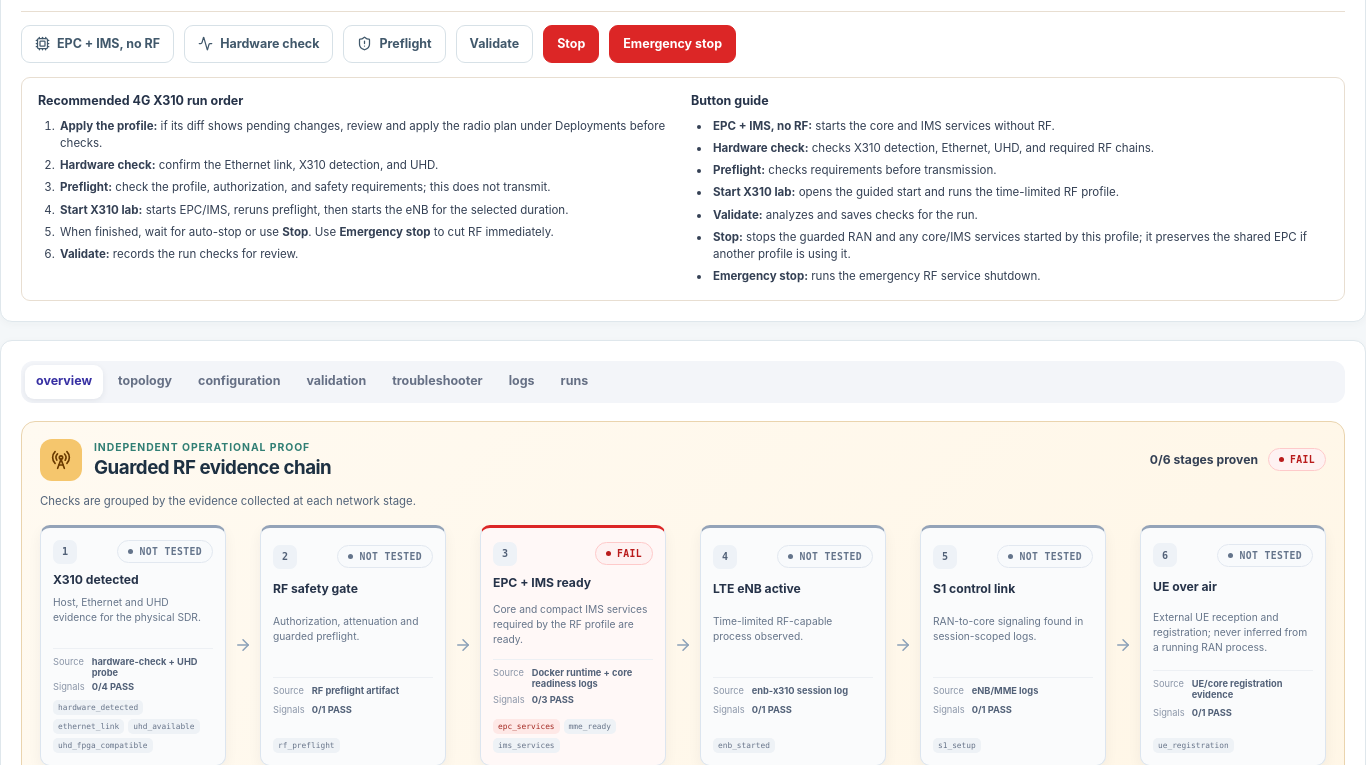
Test: profile troubleshooter › detects and safely resolves a synthetic core failure in 4G - Guarded LTE RF
(page scrolled)
What coordinates should you click on to do the following:
click the tab "troubleshooter"
I would click on:
 (438, 382)
Its box is [381,365,494,399].
(page scrolled)
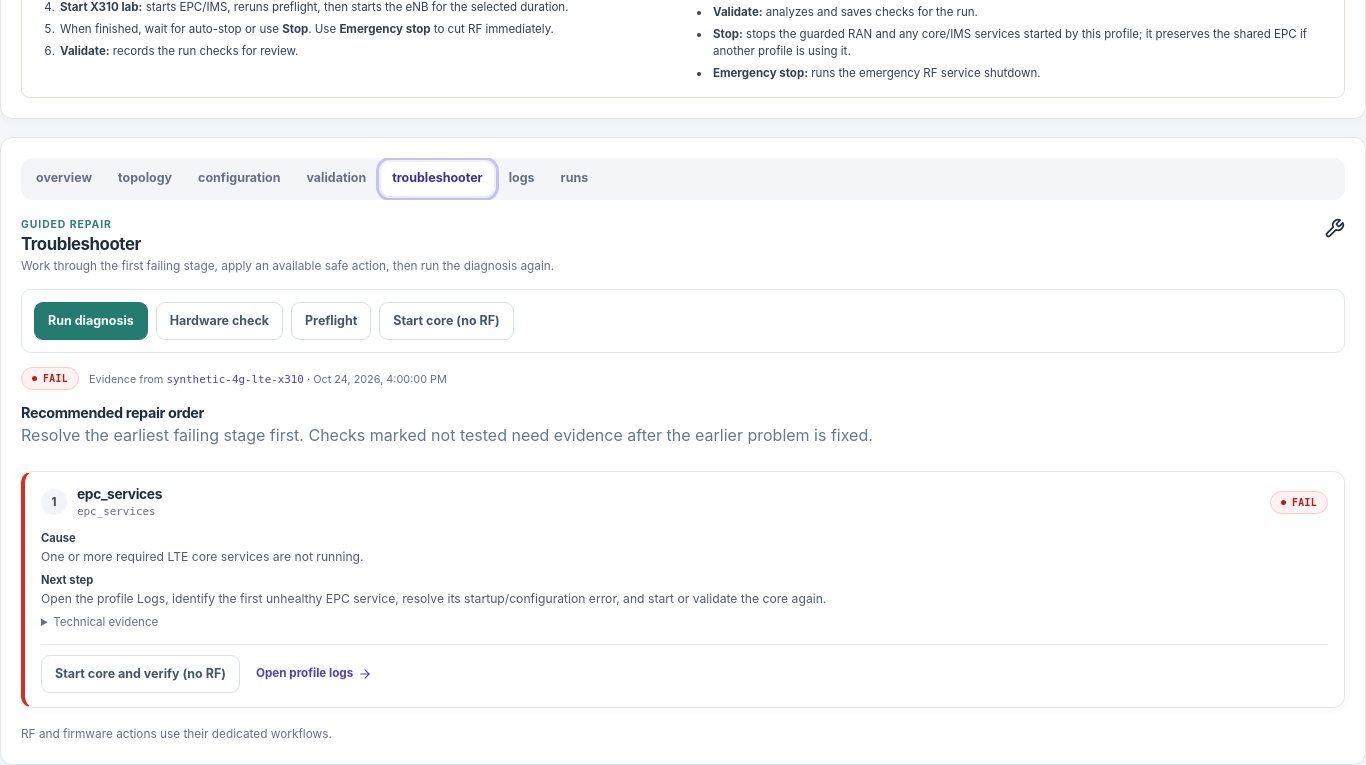
Expected: the text "Cause" is shown, [41,531,76,545]
Now the heading "Recommended repair order" is shown, box [21,404,204,421]
What coordinates should you click on to do the following:
click the button "Start core and verify (no RF)"
I would click on:
 (140, 674)
Its box is [41,655,240,693].
(page scrolled)
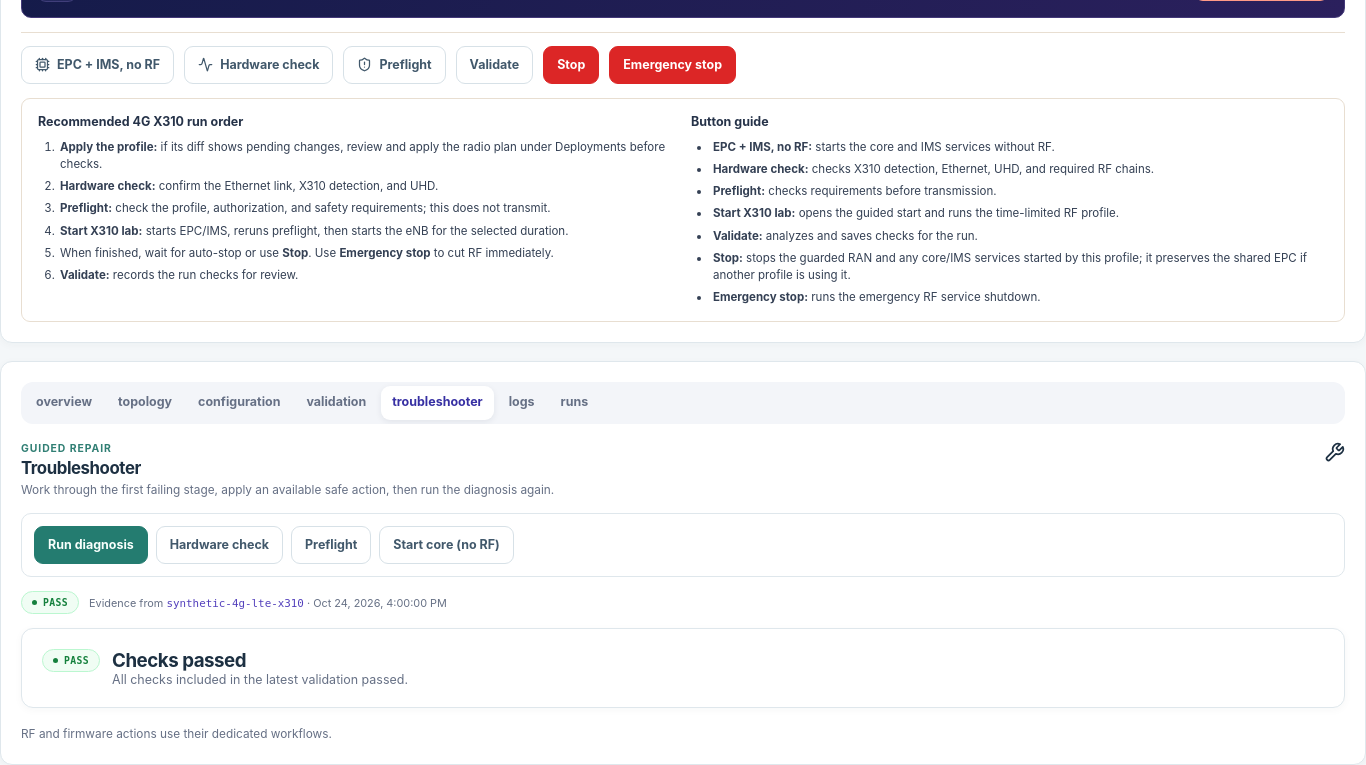
Now the heading "Checks passed" is shown, box [112,649,246,672]
